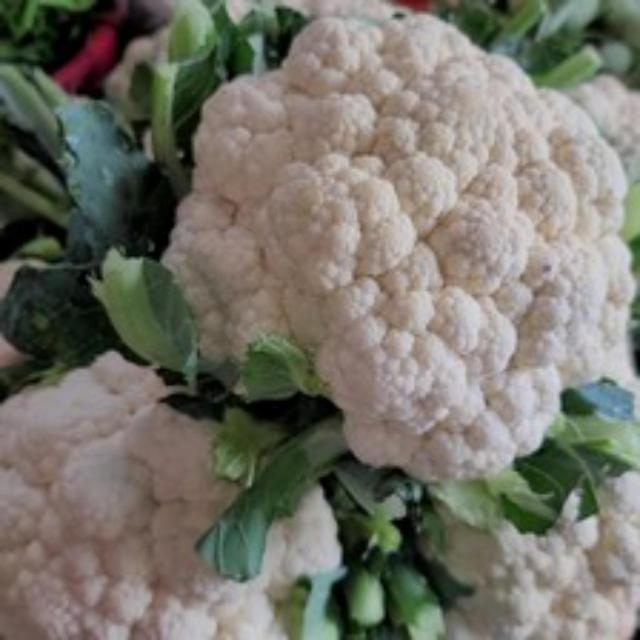cauliflower: (157, 11, 637, 460)
